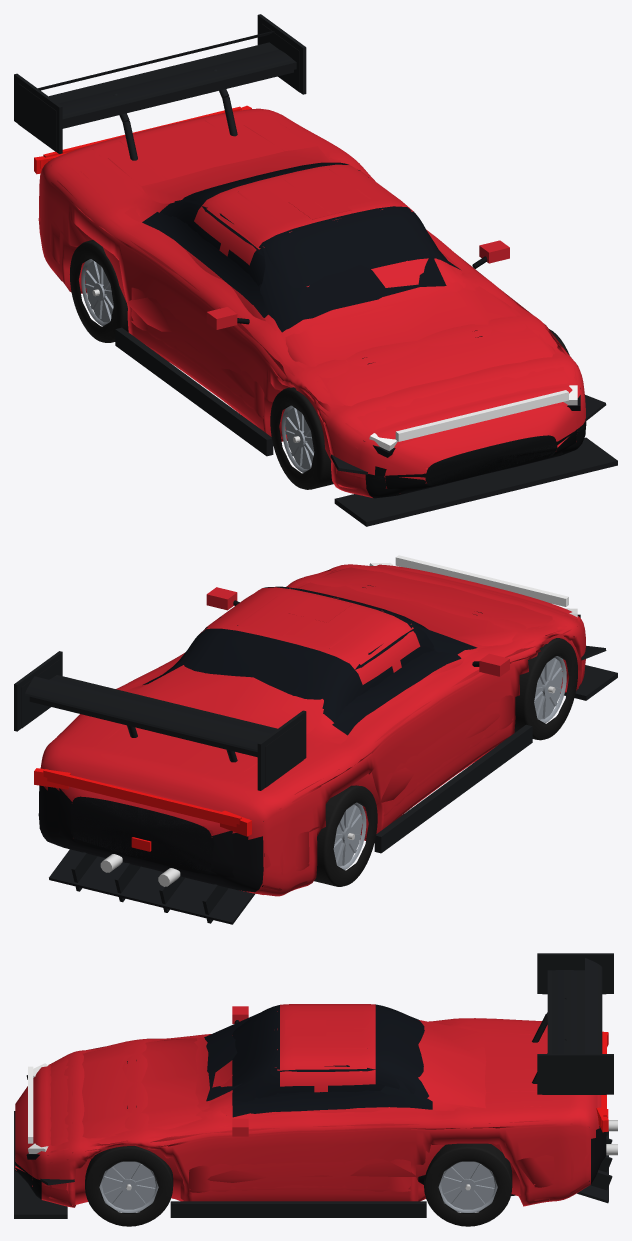
3 views of the same model, one above another, from view 1: azimuth 30°, elevation 25°; view 2: azimuth 150°, elevation 25°; view 3: azimuth 270°, elevation 25° (orthographic). The views are drawn at different scales.
Visible parts, largest first — view 1: body (×3), carbon (×3), rubber (×4), paint, headlight, rim (×2), taillight; view 2: body (×3), carbon (×2), rubber (×4), taillight (×2), rim (×4), paint, headlight, chrome; view 3: body (×3), carbon (×2), rubber (×4), rim (×6), paint, headlight, taillight.
Boxes of the visible parts, x1,y1,x2,y2 form: body (×3): [38, 108, 586, 498]; carbon (×3): [14, 14, 617, 526]; rubber (×4): [70, 240, 333, 489]; paint: [206, 192, 509, 329]; headlight: [395, 390, 568, 441]; rim (×2): [81, 259, 313, 472]; taillight: [34, 105, 251, 174]; body (×3): [38, 564, 585, 896]; carbon (×2): [14, 645, 617, 924]; rubber (×4): [314, 638, 577, 886]; taillight (×2): [34, 768, 251, 836]; rim (×4): [333, 656, 566, 869]; paint: [206, 587, 509, 676]; headlight: [395, 555, 568, 606]; chrome: [100, 854, 180, 886]; body (×3): [15, 1004, 606, 1207]; carbon (×2): [14, 953, 613, 1218]; rubber (×4): [85, 1143, 512, 1226]; rim (×6): [99, 1161, 497, 1212]; paint: [232, 1006, 326, 1136]; headlight: [28, 1066, 33, 1143]; taillight: [596, 1031, 608, 1132].
Bounding box in the file's own units: 2.24 × 1.47 × 4.72.
